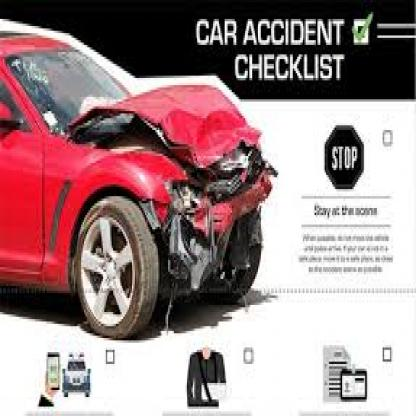accident: (2, 52, 280, 341)
